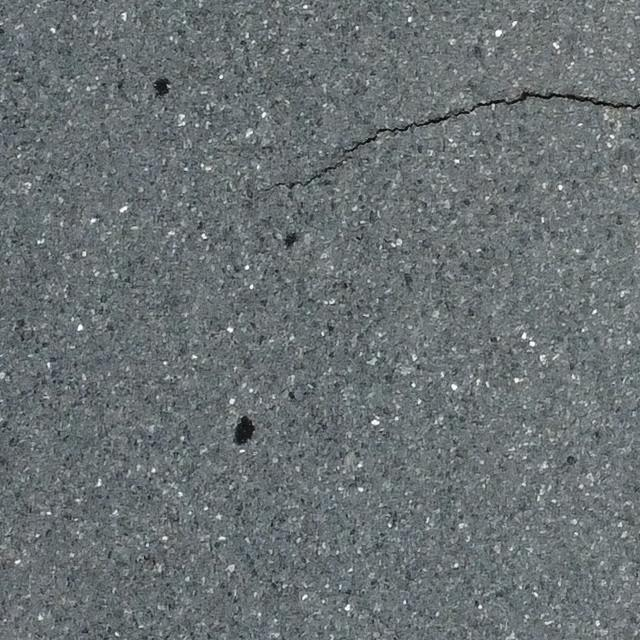TransverseCrack: (261, 90, 640, 190)
